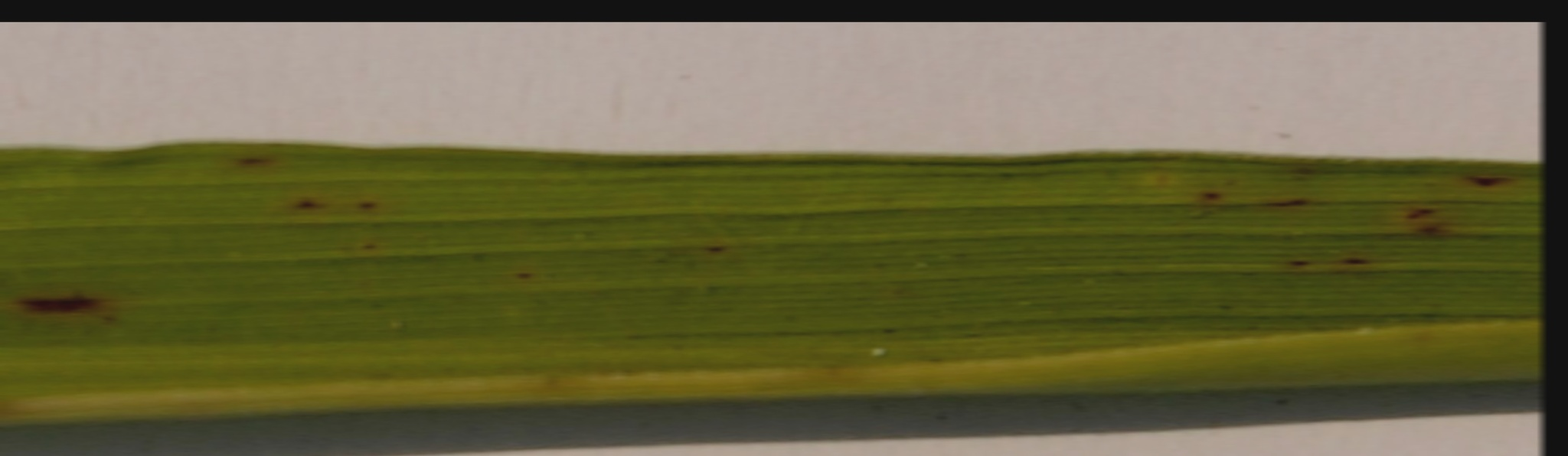Bacterial_Leaf_Blight: (1143, 97, 1526, 282), (271, 179, 415, 253), (0, 279, 127, 326)
